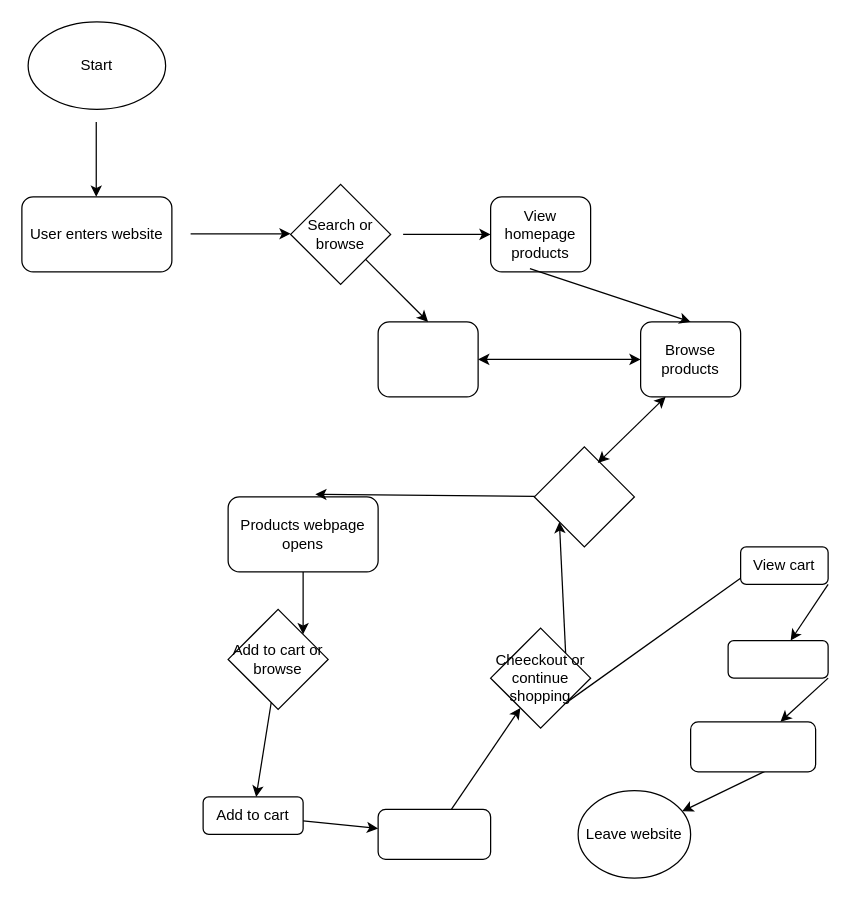
The diagram is 860 pixels wide and 900 high, and some of its shapes have lost their labels. The centre of each missing label's shape, as x and y in pixels:
Cart confirmation: point (434, 833)
Confirmation screen and email sent: point (752, 746)
Input specific product: point (427, 359)
Select product or continue browsing: point (583, 496)
View payments: point (777, 658)
